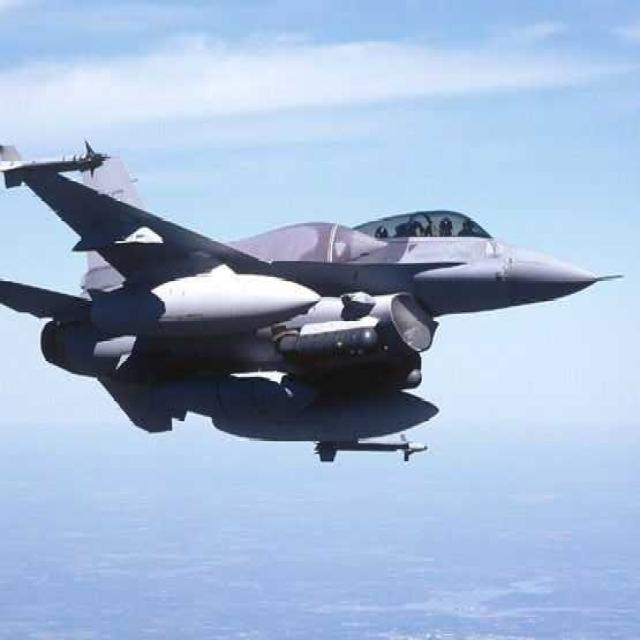missile: (85, 276, 320, 343)
